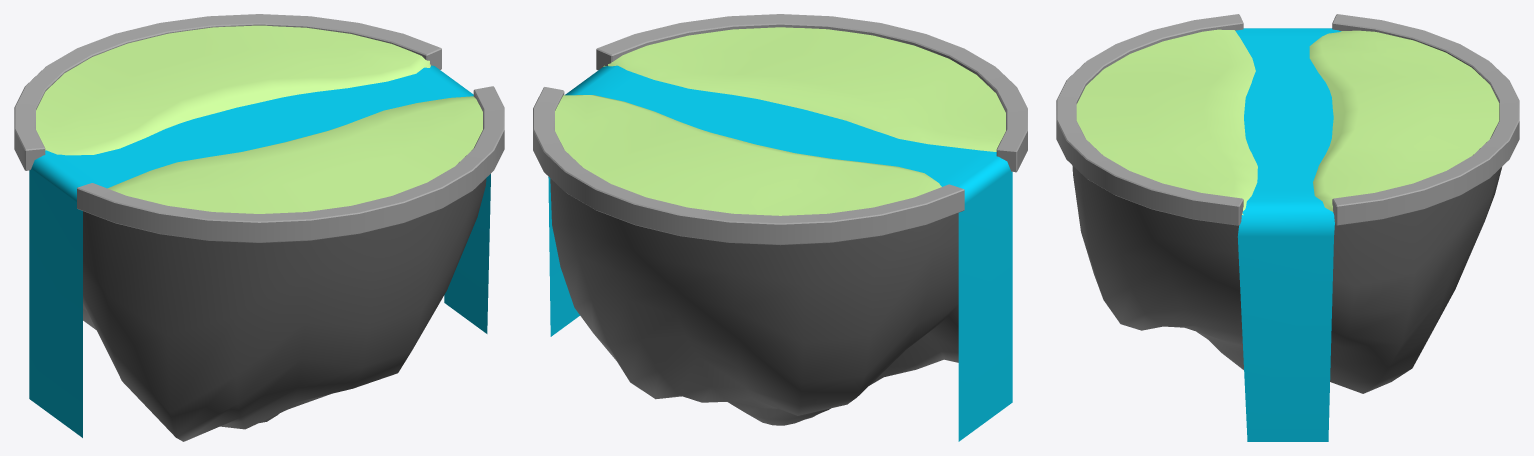
The model's file is SM_Ground.fbx.
3 views of the same model, side by side, from view 1: azimuth 30°, elevation 25°; view 2: azimuth 150°, elevation 25°; view 3: azimuth 270°, elevation 25° (orthographic). The views are drawn at different scales.
Parts seen in each view (by area): view 1: SM_BigRock1, SM_Ground1, SM_Water1, SM_Fense1; view 2: SM_BigRock1, SM_Ground1, SM_Water1, SM_Fense1; view 3: SM_Ground1, SM_BigRock1, SM_Water1, SM_Fense1.
Boxes of the visible parts, bbox=[...] form: SM_BigRock1: bbox=[83, 178, 486, 441]; SM_Ground1: bbox=[36, 25, 482, 213]; SM_Water1: bbox=[29, 65, 490, 437]; SM_Fense1: bbox=[14, 14, 504, 242]; SM_BigRock1: bbox=[550, 178, 958, 425]; SM_Ground1: bbox=[555, 27, 1005, 215]; SM_Water1: bbox=[548, 65, 1012, 441]; SM_Fense1: bbox=[533, 14, 1027, 245]; SM_Ground1: bbox=[1076, 29, 1499, 215]; SM_BigRock1: bbox=[1072, 165, 1501, 393]; SM_Water1: bbox=[1235, 28, 1341, 441]; SM_Fense1: bbox=[1056, 14, 1519, 225].
Size of the model in its own units: 20.07 by 13.6 by 20.43.
